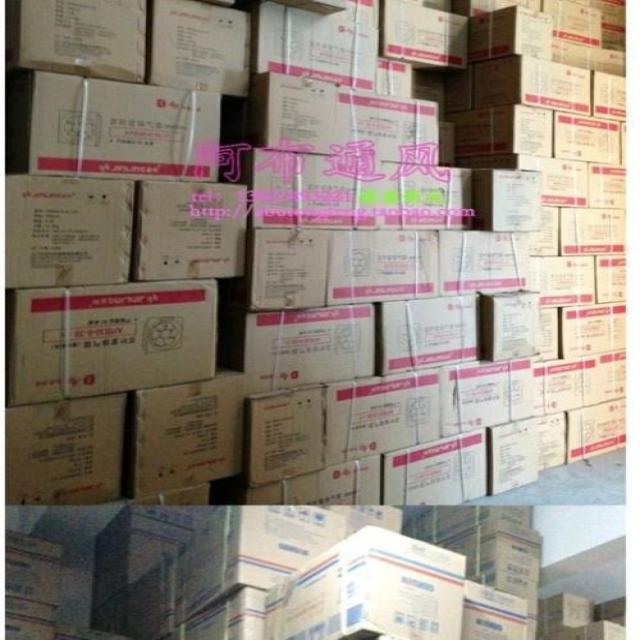box: (6, 279, 219, 407), (262, 525, 468, 640), (19, 69, 223, 182), (174, 506, 349, 626), (220, 148, 472, 230), (122, 364, 247, 498), (220, 297, 378, 396), (6, 173, 138, 288), (5, 392, 128, 505), (131, 180, 250, 282), (92, 506, 210, 608), (325, 368, 442, 467), (252, 1, 380, 90), (229, 385, 326, 488), (224, 228, 332, 312), (326, 228, 440, 307), (376, 295, 485, 375), (381, 427, 488, 506), (242, 70, 340, 155), (338, 84, 440, 165), (225, 454, 381, 506), (470, 54, 591, 116), (439, 358, 532, 438), (458, 154, 588, 208), (379, 0, 468, 77), (435, 521, 543, 582), (438, 230, 526, 297), (447, 104, 554, 158), (124, 541, 182, 640), (160, 586, 266, 640), (467, 4, 553, 64), (404, 506, 532, 544), (6, 529, 64, 607), (470, 169, 541, 232), (486, 416, 539, 496), (532, 354, 598, 416), (484, 291, 540, 363), (462, 581, 530, 640), (567, 397, 626, 464), (562, 301, 627, 359), (553, 111, 621, 165), (526, 255, 595, 308), (468, 569, 539, 620), (559, 207, 627, 255), (563, 0, 626, 51), (540, 0, 603, 49), (553, 37, 625, 77), (319, 506, 404, 538), (95, 483, 210, 506), (538, 592, 594, 637), (6, 597, 59, 639), (534, 409, 566, 473), (588, 163, 628, 209), (590, 70, 626, 121), (595, 348, 628, 403), (526, 206, 561, 257), (536, 619, 625, 639), (532, 307, 562, 363), (413, 71, 447, 120), (91, 588, 125, 637), (375, 57, 413, 99), (595, 254, 626, 304), (451, 0, 541, 17), (326, 0, 380, 28), (54, 622, 133, 639), (445, 65, 472, 114), (270, 0, 346, 16), (440, 121, 456, 166), (150, 0, 238, 8), (407, 0, 453, 12), (621, 121, 627, 165), (527, 619, 539, 640)
